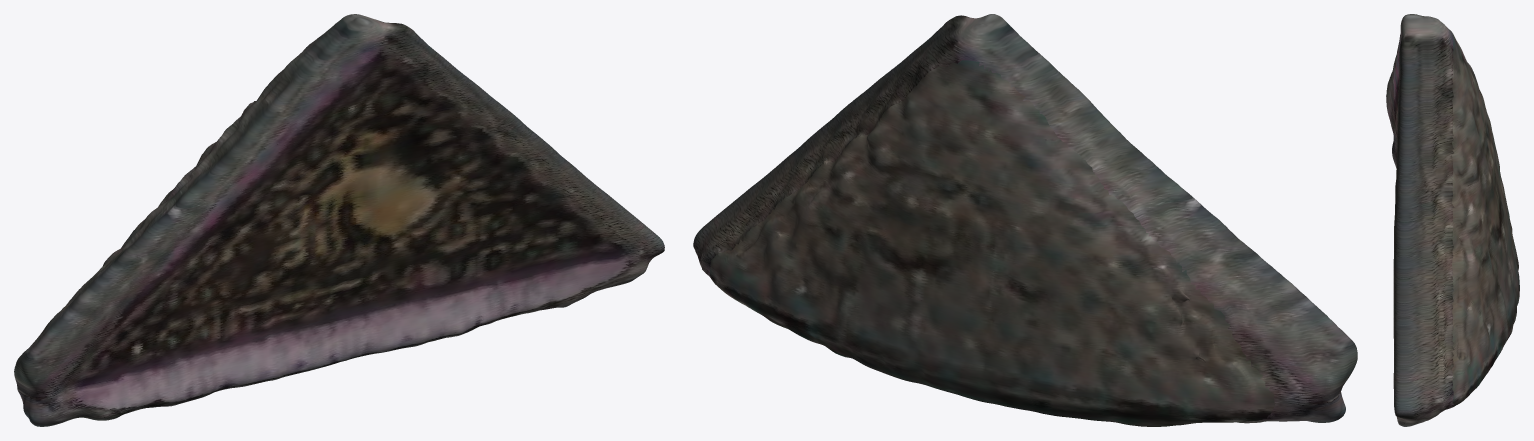
Rendered from kfl-2311.glb.
3 views of the same model, side by side, from view 1: azimuth 30°, elevation 25°; view 2: azimuth 150°, elevation 25°; view 3: azimuth 270°, elevation 25° (orthographic). The views are drawn at different scales.
Visible parts, largest first — view 1: geometry_0; view 2: geometry_0; view 3: geometry_0.
Boxes of the visible parts, left/top/right/bottom form: geometry_0: left=14, top=14, right=664, bottom=426; geometry_0: left=693, top=14, right=1357, bottom=426; geometry_0: left=1386, top=14, right=1519, bottom=426.
Bounding box in the file's own units: 0.9906 × 0.4988 × 0.1954.
1 material, 1 textured.
